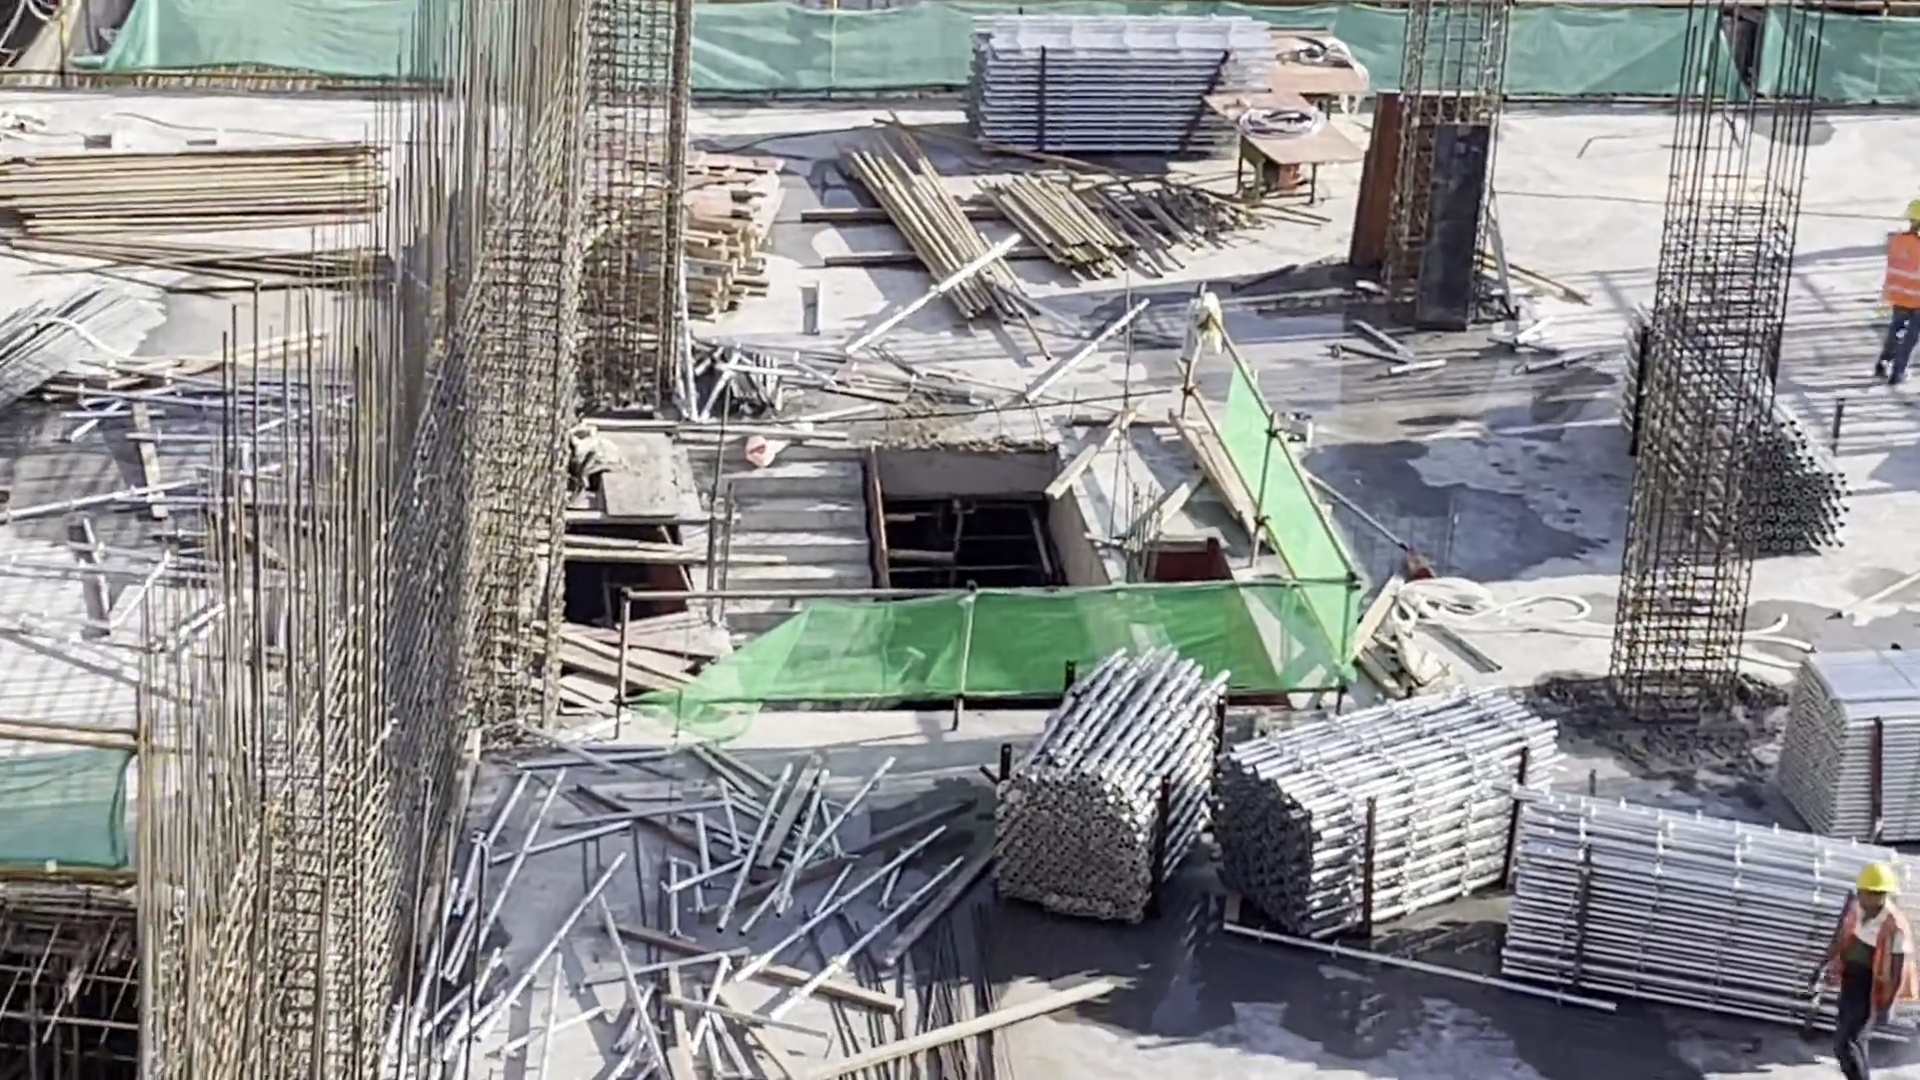cutter: (1224, 93, 1347, 198), (1284, 23, 1359, 87)
helmet: (1858, 865, 1905, 910), (1904, 198, 1920, 220)
person: (1803, 857, 1920, 1080), (1866, 189, 1919, 385)
rebar: (864, 941, 995, 1080), (1, 292, 99, 374)
scaffold: (1569, 817, 1912, 1011), (1261, 721, 1529, 908), (1011, 681, 1223, 889), (984, 31, 1274, 172), (1685, 341, 1821, 559), (1804, 643, 1920, 789)
vest: (1830, 914, 1902, 995), (1882, 235, 1920, 324)
wood: (584, 205, 763, 328)
